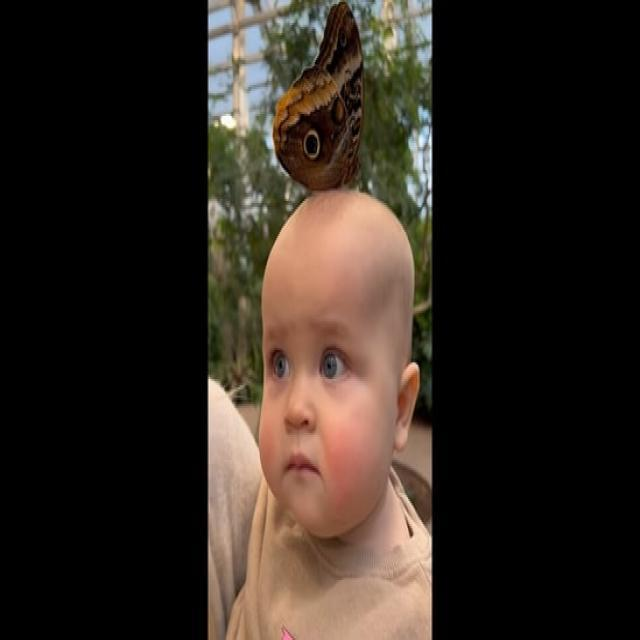non-dog: (208, 187, 435, 640), (267, 1, 366, 193)
